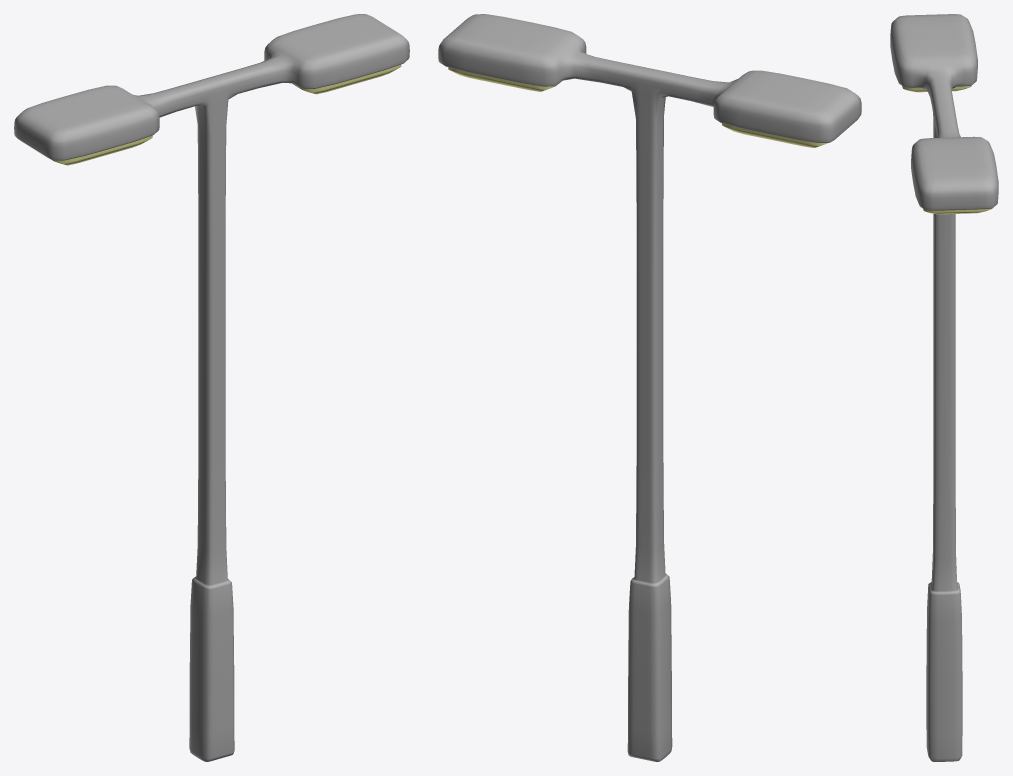
Rendered from StreetLamp.fbx.
The picture shows the model from 3 angles, left to right: view 1: azimuth 30°, elevation 25°; view 2: azimuth 150°, elevation 25°; view 3: azimuth 270°, elevation 25°; orthographic projection. The views are drawn at different scales.
Parts seen in each view (by area): view 1: Cube.014; view 2: Cube.014; view 3: Cube.014.
Part boxes in pixels (x1,y1,x2,y2): Cube.014: (14, 14, 409, 761); Cube.014: (438, 14, 861, 761); Cube.014: (890, 14, 998, 761).
Size of the model in its own units: 1238 by 2138 by 320.
